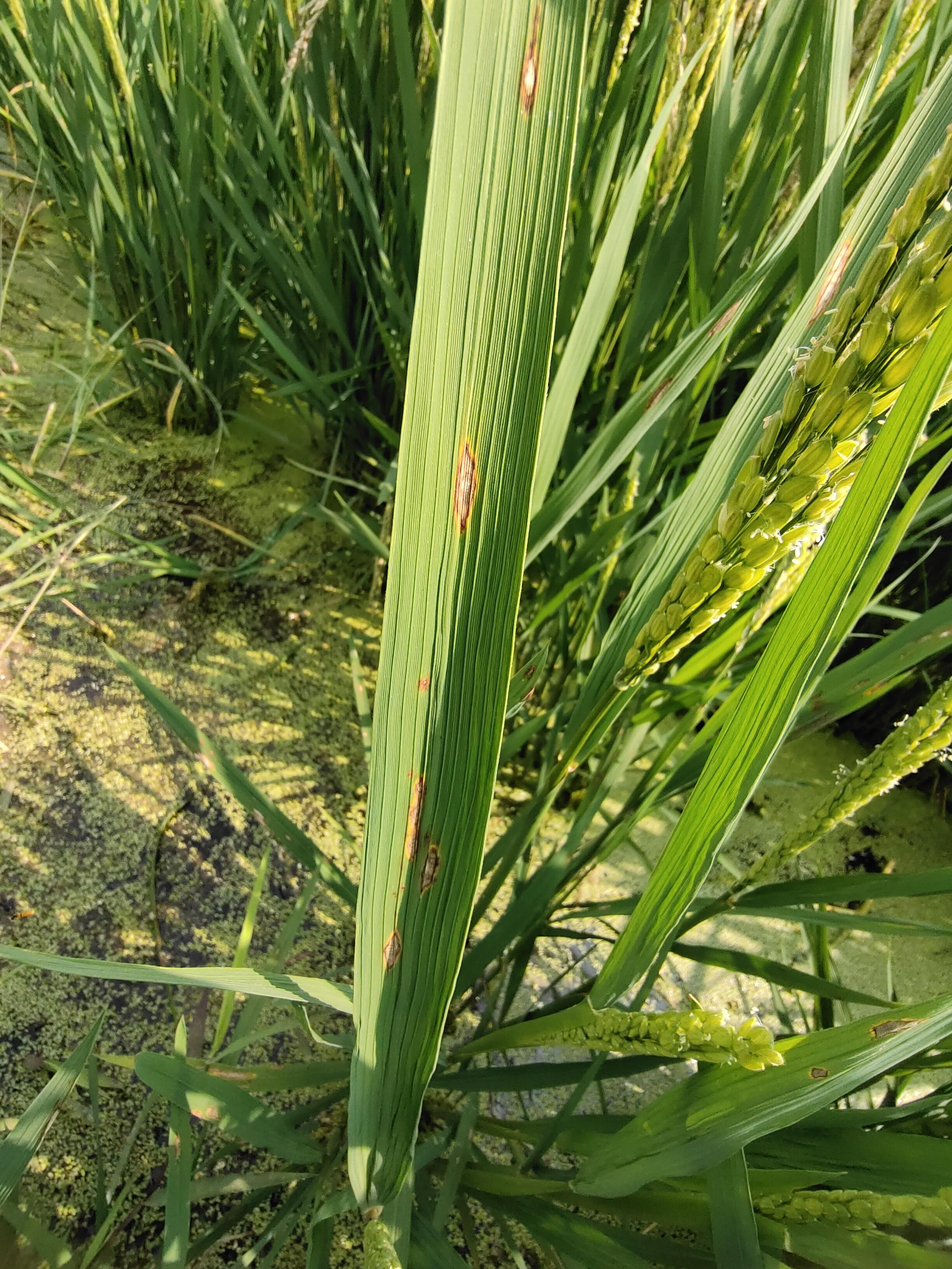LEAF: (348, 0, 588, 1218)
LEAF BLAST: (452, 438, 479, 535), (519, 5, 541, 120), (404, 774, 427, 861), (420, 844, 439, 894), (383, 929, 401, 970), (416, 676, 431, 692)
